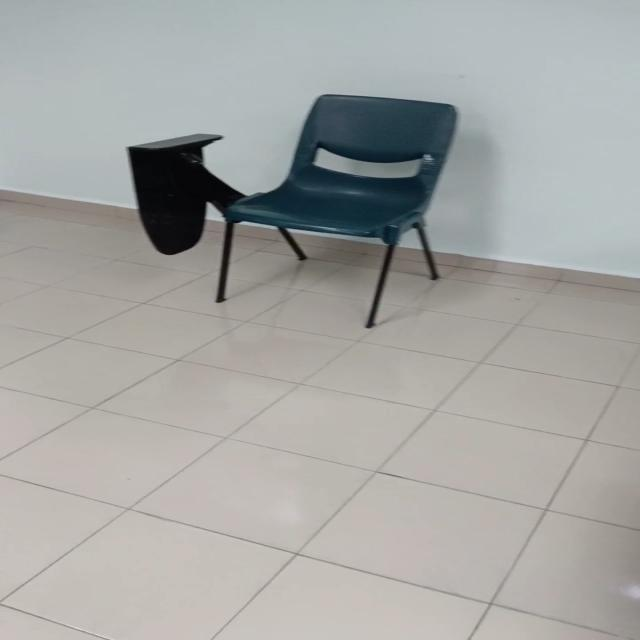sandalye: (216, 94, 457, 328)
